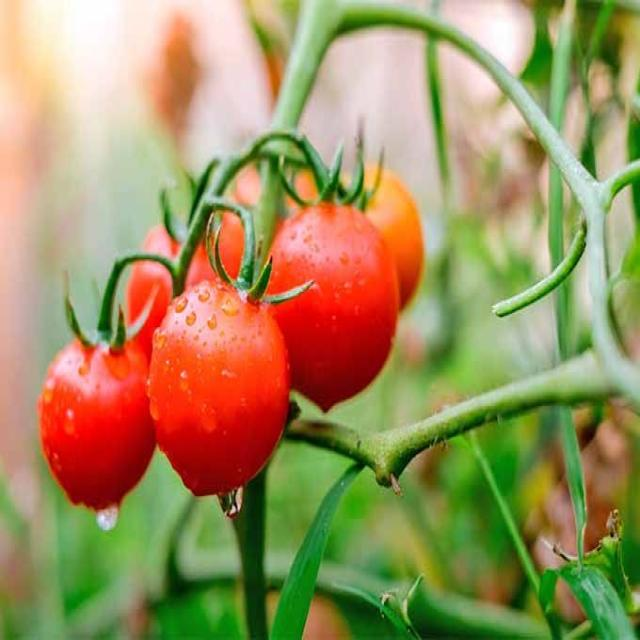level 5: (330, 165, 419, 312)
level 6: (150, 278, 290, 499), (266, 201, 399, 410), (38, 334, 156, 510), (132, 218, 248, 389), (221, 165, 325, 305)
